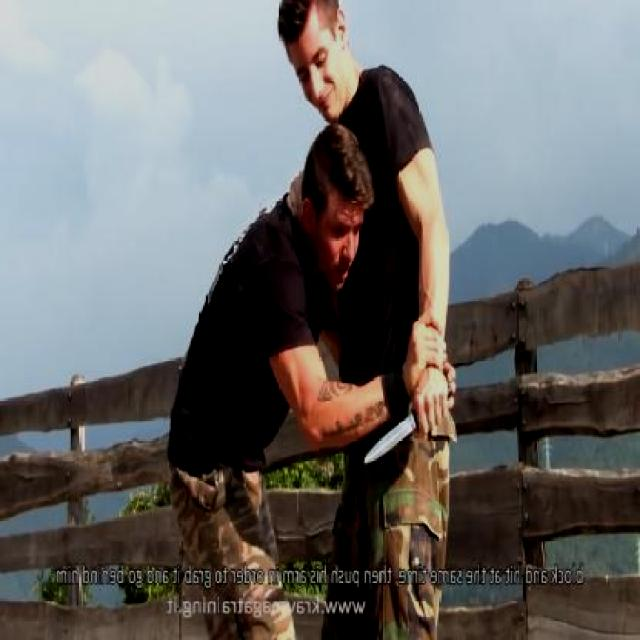knife: (362, 372, 452, 474)
